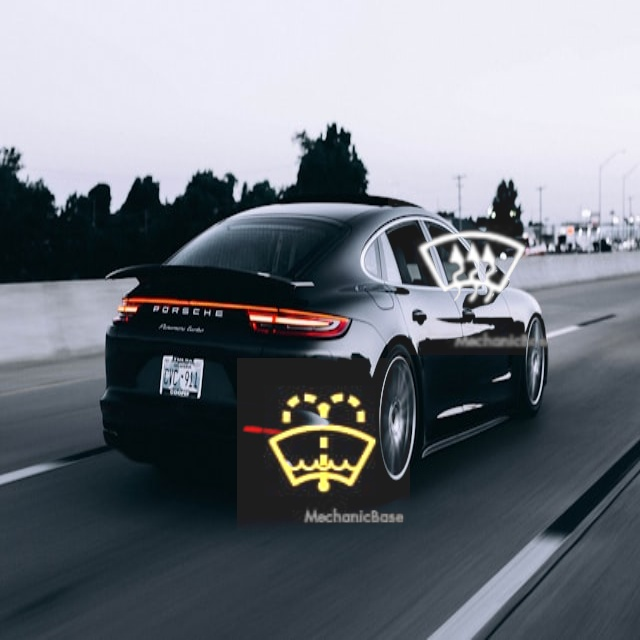symbol: (237, 358, 410, 531), (388, 183, 560, 355)
